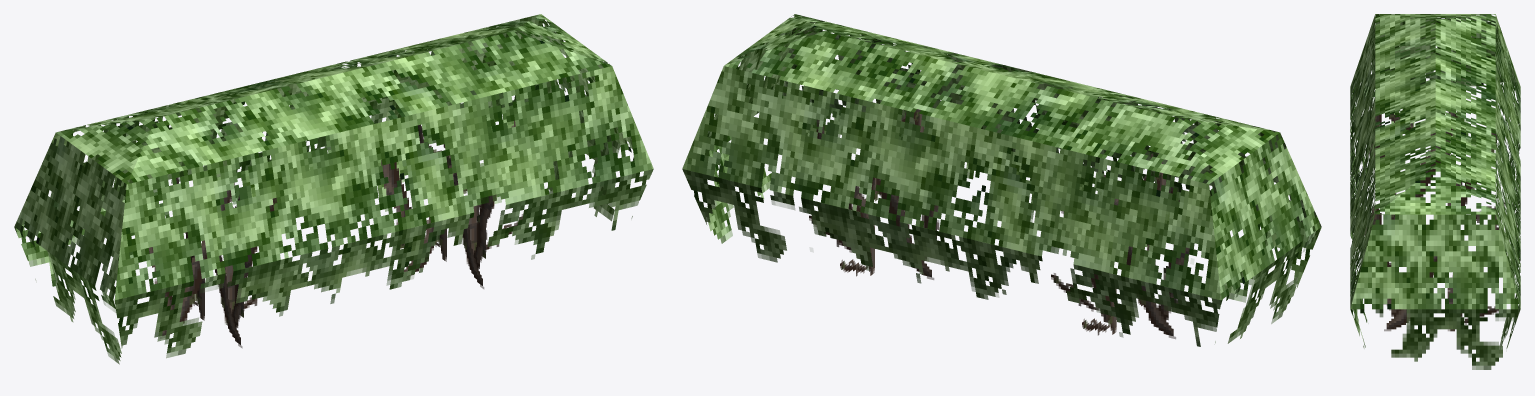
The model's file is bush_long_single_roots_summer.glb.
3 renders of one model, left to right at view 1: azimuth 30°, elevation 25°; view 2: azimuth 150°, elevation 25°; view 3: azimuth 270°, elevation 25°, orthographic. The views are drawn at different scales.
Parts seen in each view (by area): view 1: bush_long_single_roots_summer; view 2: bush_long_single_roots_summer; view 3: bush_long_single_roots_summer.
Part boxes in pixels (<box>): bush_long_single_roots_summer: <box>14,14,653,364</box>; bush_long_single_roots_summer: <box>682,14,1321,346</box>; bush_long_single_roots_summer: <box>1350,14,1520,369</box>.
Size of the model in its own units: 2.23 by 0.8765 by 0.7191.
2 materials, 2 textured.
